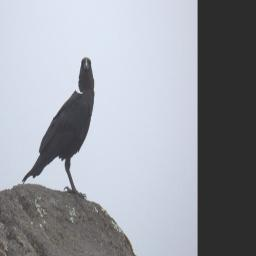Crow: (22, 55, 96, 197)
